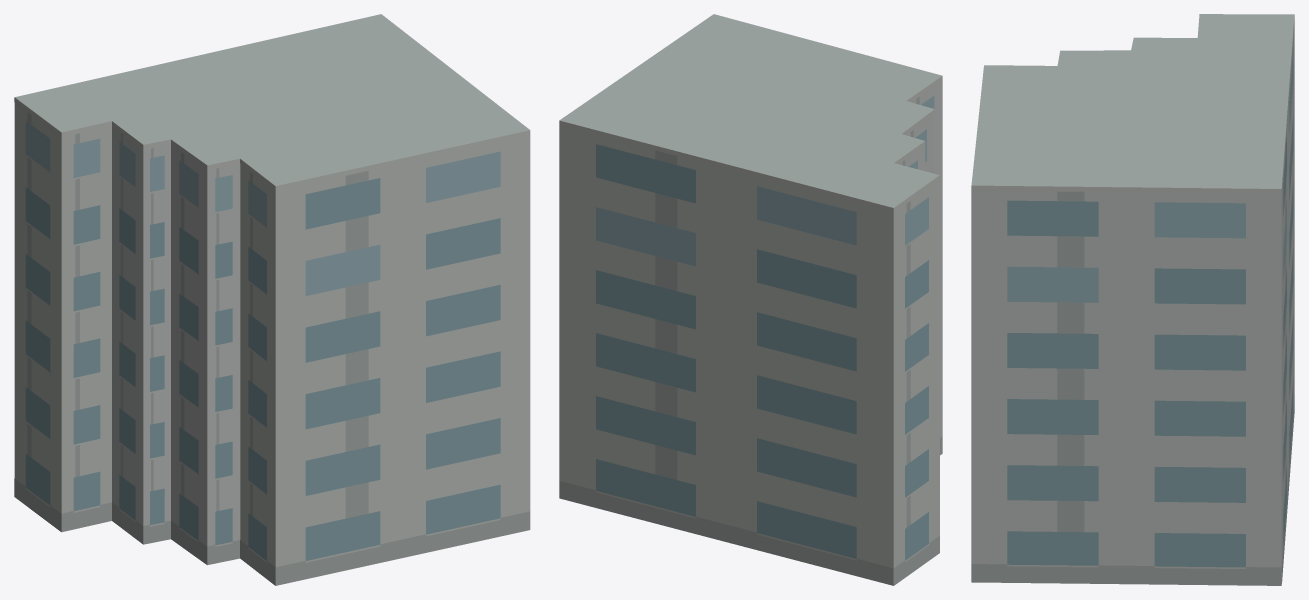
The model's file is survey-upis-32878339.glb.
3 views of the same model, side by side, from view 1: azimuth 30°, elevation 25°; view 2: azimuth 150°, elevation 25°; view 3: azimuth 270°, elevation 25° (orthographic). The views are drawn at different scales.
Visible parts, largest first — view 1: survey-upis-32878339.tmp; view 2: survey-upis-32878339.tmp; view 3: survey-upis-32878339.tmp.
Part boxes in pixels (x1,y1,x2,y2): survey-upis-32878339.tmp: [14, 14, 530, 585]; survey-upis-32878339.tmp: [559, 14, 942, 585]; survey-upis-32878339.tmp: [971, 14, 1294, 585].
Bounding box in the file's own units: 18.36 × 19.4 × 14.33.
